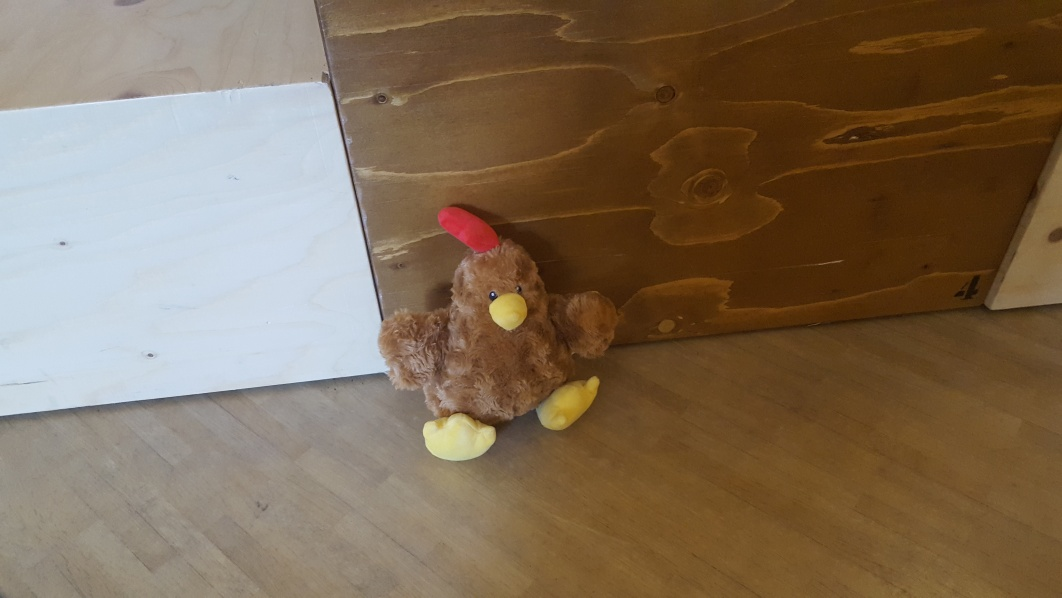chicken: (372, 199, 617, 460)
